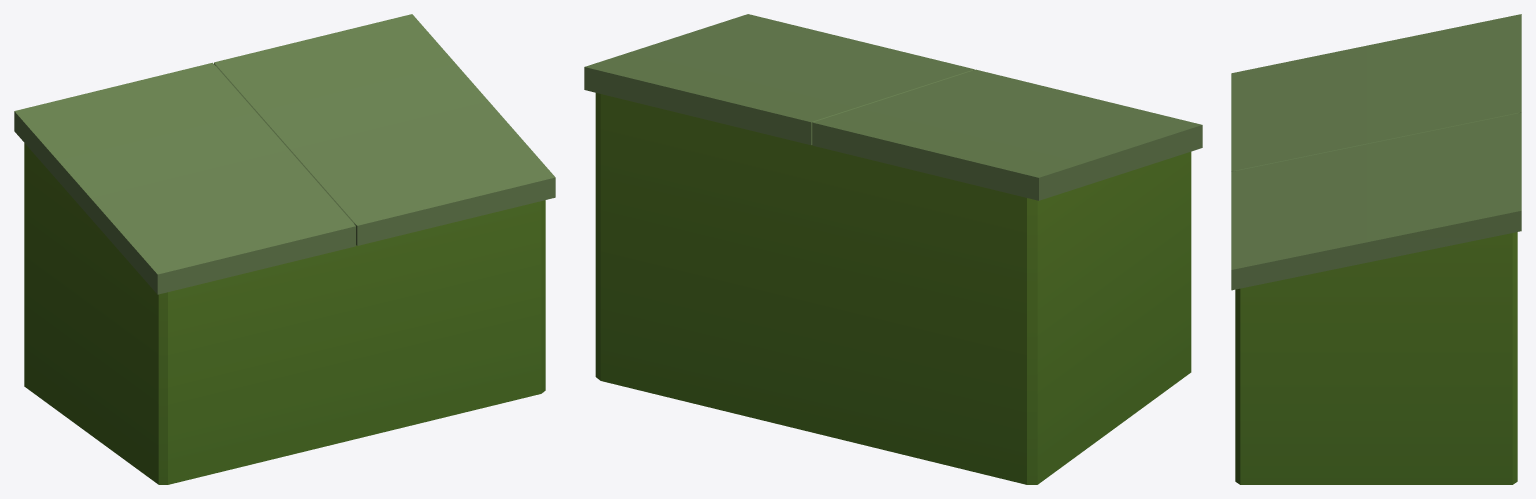
The model's file is Trash_02.fbx.
3 views of the same model, side by side, from view 1: azimuth 30°, elevation 25°; view 2: azimuth 150°, elevation 25°; view 3: azimuth 270°, elevation 25° (orthographic). The views are drawn at different scales.
Visible parts, largest first — view 1: Trash_02; view 2: Trash_02; view 3: Trash_02.
Boxes of the visible parts, x1=… form: Trash_02: x1=14, y1=14, x2=555, y2=484; Trash_02: x1=584, y1=14, x2=1202, y2=484; Trash_02: x1=1231, y1=14, x2=1521, y2=484.
Size of the model in its own units: 1.64 by 1.08 by 1.02.
